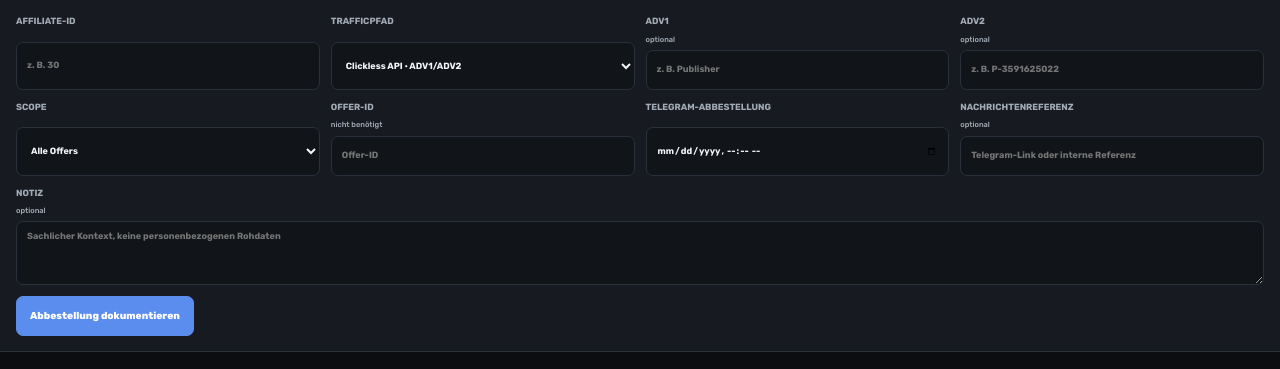
keeps the input and reports a rejected response without refreshing
The width and height of the screenshot is (1280, 369).
Type "6" into the field named "affiliateId" at (168,66), box [16,42,320,90]
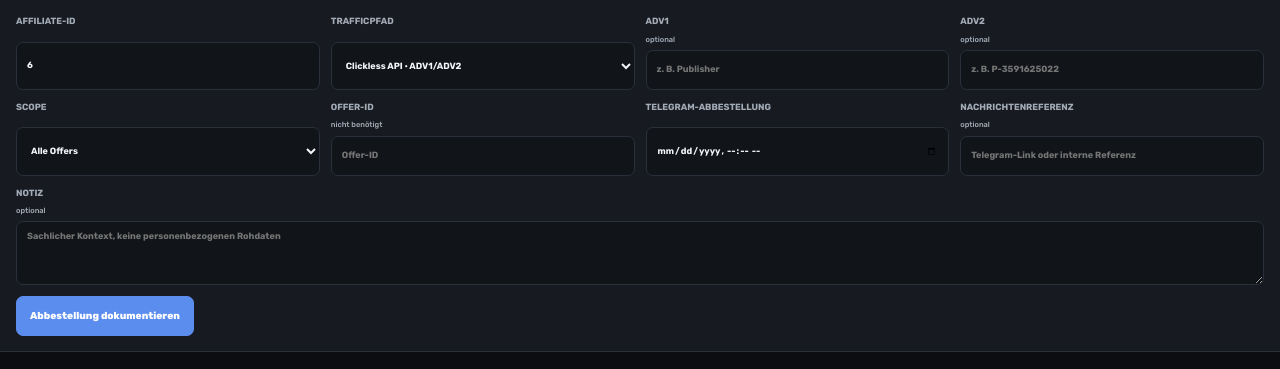
Type "2026-09-09T12:00" into the field named "requestedAt" at (797,151), box [646,127,949,176]
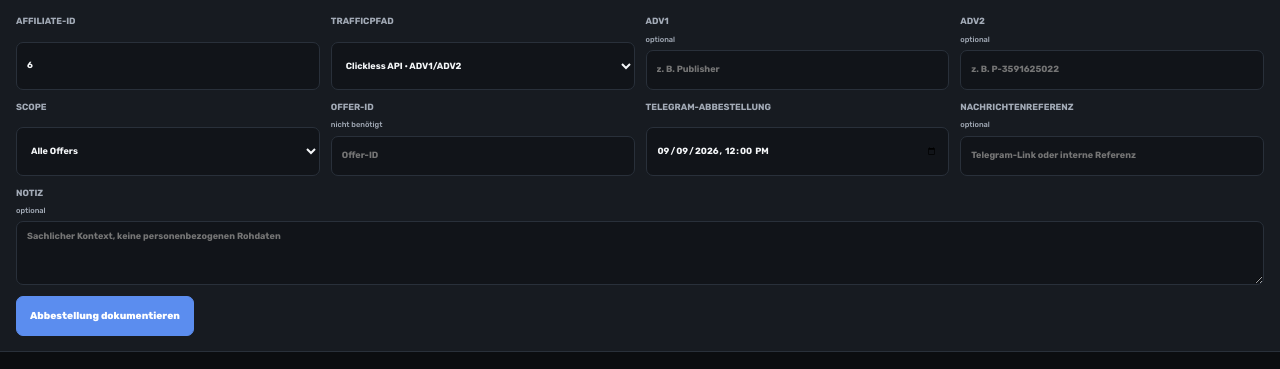
Submit the form
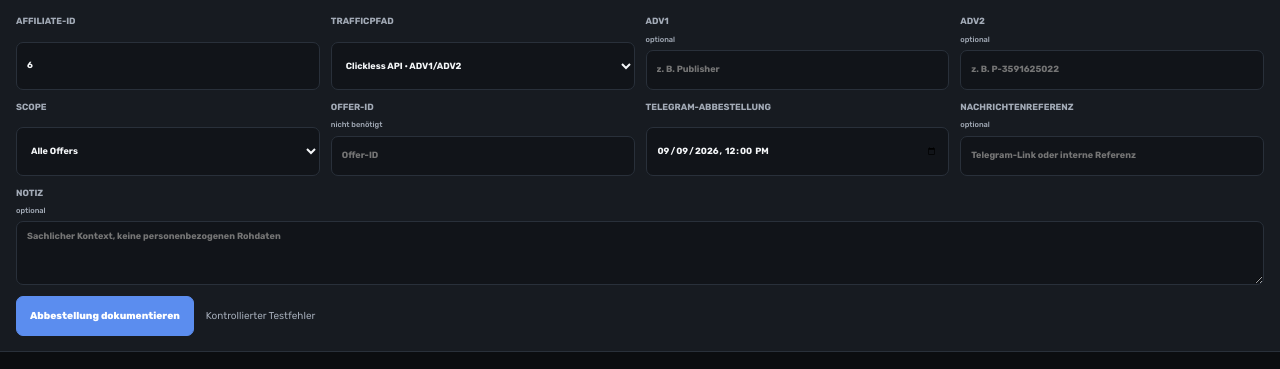
Check: the button "Abbestellung dokumentieren" is enabled, box [16,296,194,336]
Check: the message "Kontrollierter Testfehler" is shown, box [206,309,315,324]
